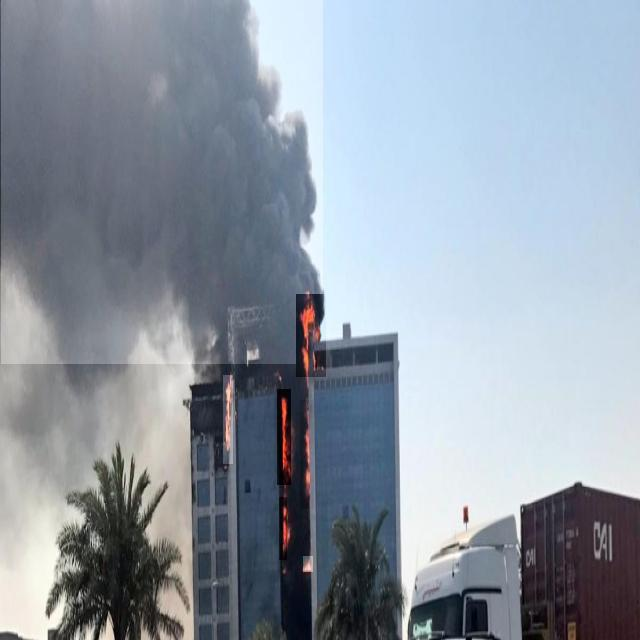Fire: (296, 294, 326, 377), (300, 400, 314, 509), (277, 390, 291, 486), (223, 375, 233, 464), (279, 497, 287, 560), (303, 556, 313, 572)
Smoke: (1, 0, 323, 364)
